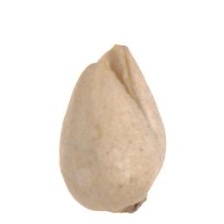L1: (88, 41, 133, 93), (115, 200, 149, 213)
L2: (59, 43, 166, 215)
